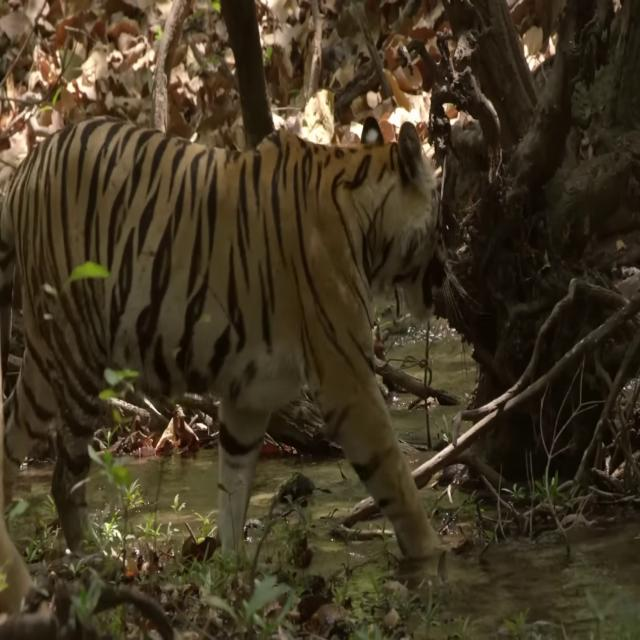tiger: (0, 121, 454, 560)
